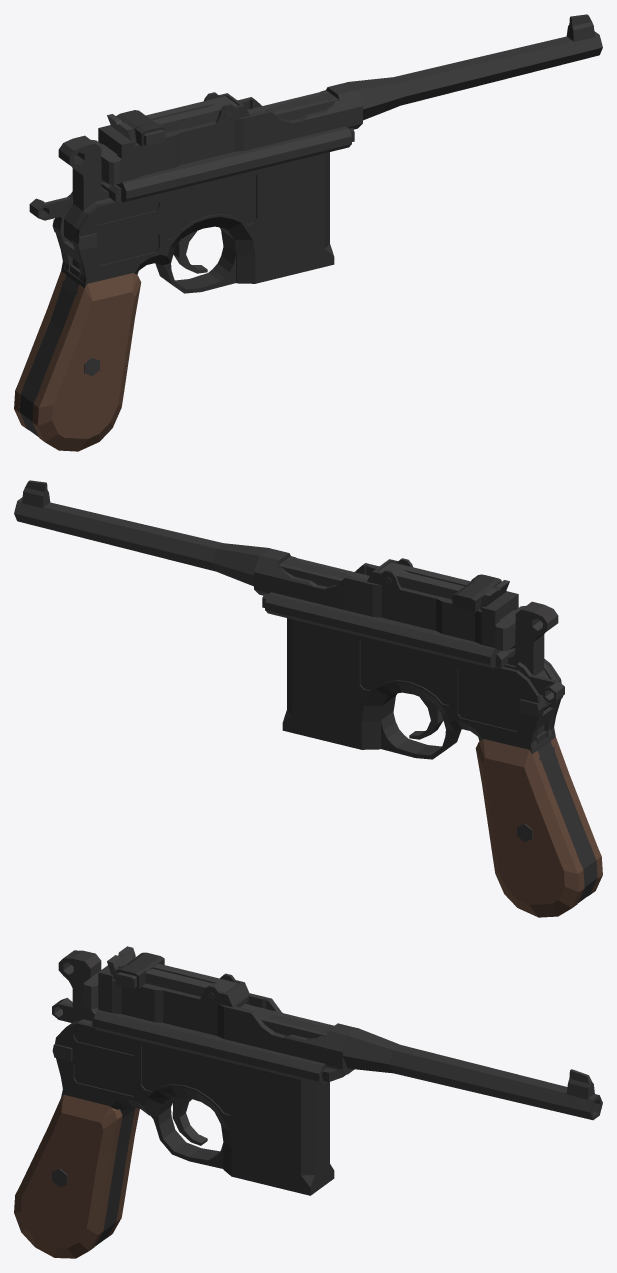
The picture shows the model from 3 angles, top to bottom: view 1: azimuth 30°, elevation 25°; view 2: azimuth 150°, elevation 25°; view 3: azimuth 330°, elevation 25°; orthographic projection.
Parts seen in each view (by area): view 1: Cube, Cube.003, Cube.007, Cylinder, Cube.008, Cylinder.001, Cube.013, Cube.009, Cube.001, Cube.006, Cube.012, Cube.005 (+2 smaller); view 2: Cube, Cube.003, Cube.007, Cylinder, Cube.008, Cylinder.001, Cube.013, Cube.009, Cube.001, Cube.012, Cube.005, Cube.006 (+2 smaller); view 3: Cube, Cube.003, Cube.007, Cylinder, Cube.008, Cube.013, Cylinder.001, Cube.009, Cube.001, Cube.011, Cube.012, Cube.004 (+1 smaller).
Boxes of the visible parts, box(x1,y1,x2,y2) form: Cube: box(19, 152, 334, 436); Cube.003: box(14, 271, 141, 451); Cube.007: box(98, 82, 362, 201); Cylinder: box(347, 31, 602, 120); Cube.008: box(118, 126, 351, 202); Cylinder.001: box(58, 135, 109, 244); Cube.013: box(107, 96, 238, 144); Cube.009: box(91, 90, 338, 184); Cube.001: box(155, 246, 235, 293); Cube.006: box(57, 198, 113, 281); Cube.012: box(116, 110, 164, 146); Cube.005: box(29, 191, 72, 220); Cube: box(282, 618, 597, 902); Cube.003: box(475, 737, 602, 917); Cube.007: box(254, 548, 518, 667); Cylinder: box(14, 497, 269, 586); Cube.008: box(265, 592, 498, 668); Cylinder.001: box(507, 601, 558, 710); Cube.013: box(378, 562, 509, 610); Cube.009: box(278, 556, 525, 650); Cube.001: box(381, 712, 461, 759); Cube.012: box(452, 574, 501, 612); Cube.005: box(514, 662, 564, 702); Cube.006: box(503, 662, 558, 747); Cube: box(55, 1022, 334, 1246); Cube.003: box(14, 1094, 139, 1258); Cube.007: box(92, 965, 356, 1074); Cylinder: box(342, 1028, 602, 1120); Cube.008: box(93, 1010, 326, 1084); Cube.013: box(107, 946, 238, 996); Cylinder.001: box(58, 950, 101, 1022); Cube.009: box(83, 965, 333, 1038); Cube.001: box(151, 1107, 223, 1168); Cube.011: box(200, 973, 249, 1007); Cube.012: box(115, 952, 164, 988); Cube.004: box(170, 1097, 207, 1145).
Size of the model in its own units: 295 by 152 by 29.57.
